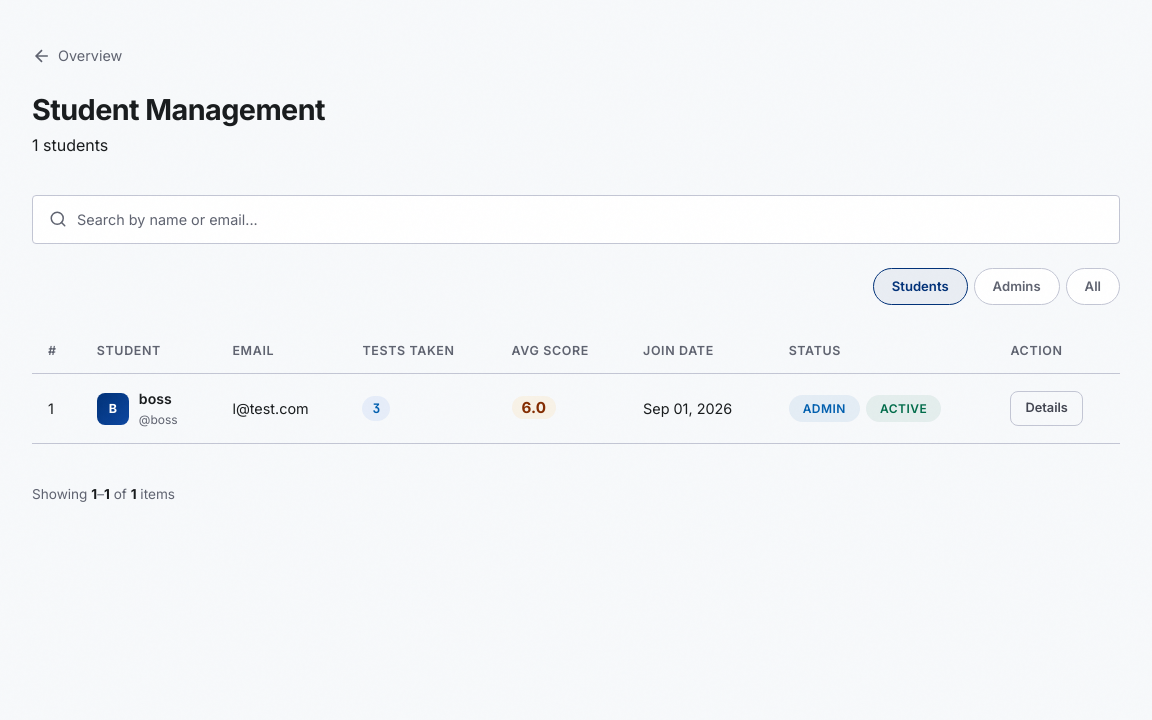
Test case: AdminUsersPage account management › offers no account actions on the signed-in admin
Click the button "Details" at (1047, 409), box [1010, 391, 1083, 426]
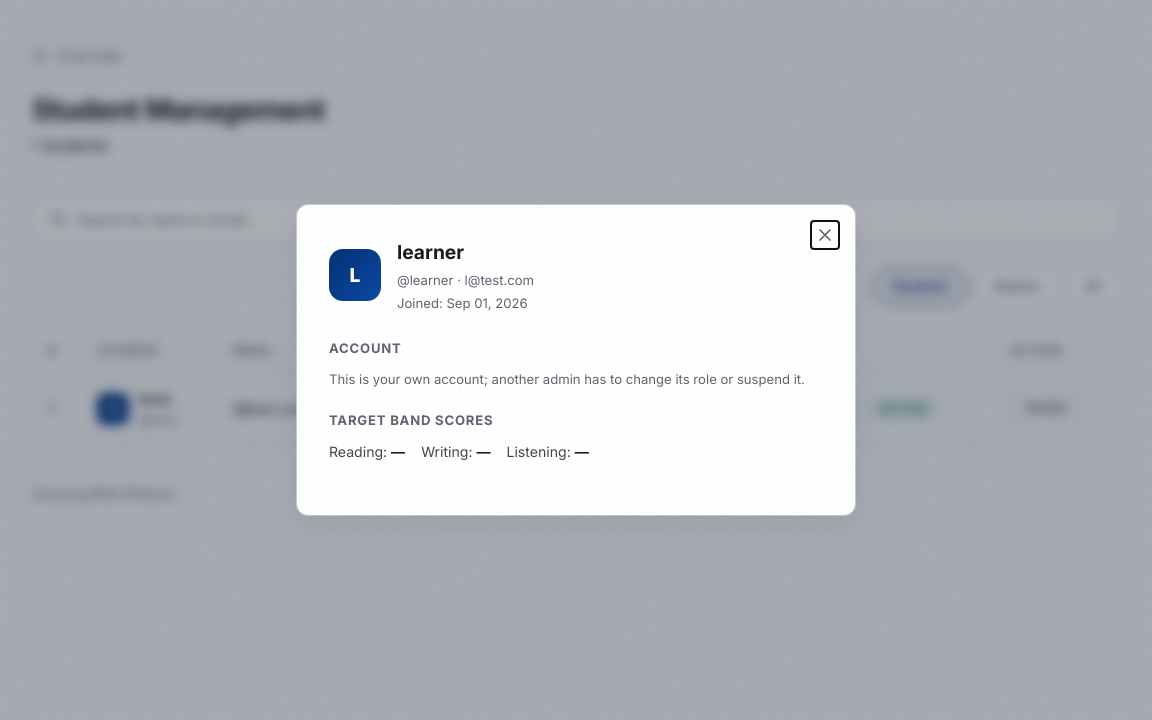
Expected: the text "This is your own account" is shown, [329, 371, 805, 387]
